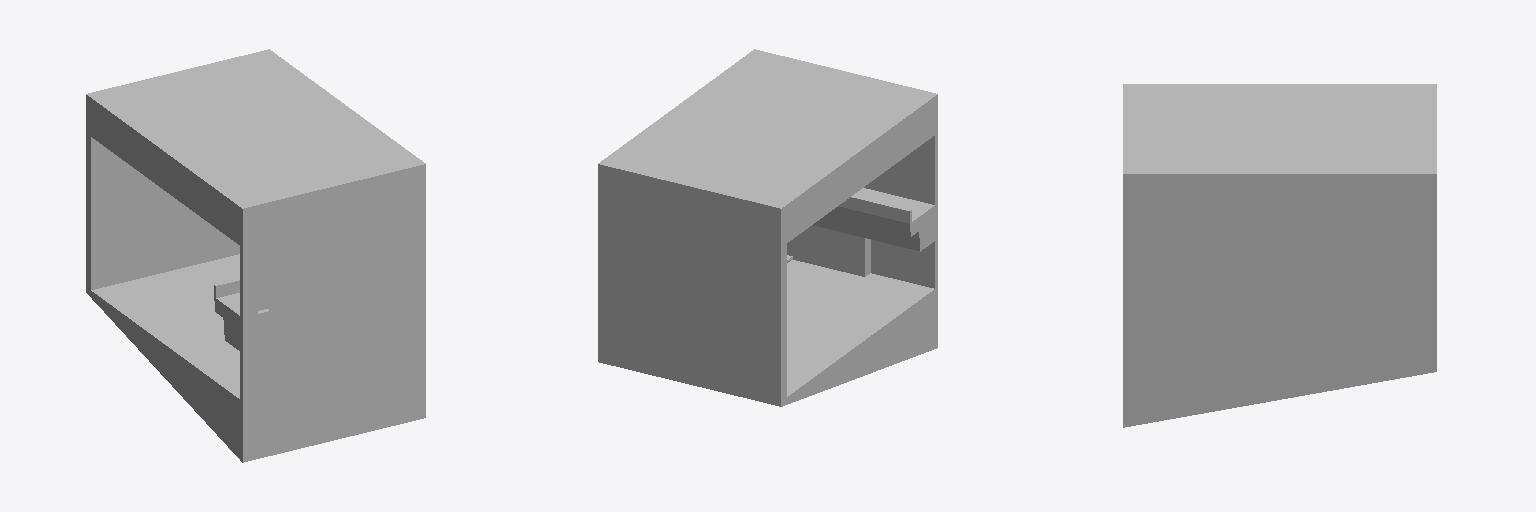
The model's file is engine_room.obj.
3 views of the same model, side by side, from view 1: azimuth 30°, elevation 25°; view 2: azimuth 150°, elevation 25°; view 3: azimuth 270°, elevation 25° (orthographic).
Visible parts, largest first — view 1: pCube69; view 2: pCube69; view 3: pCube69.
Part boxes in pixels (x1,y1,x2,y2): pCube69: (86,49,425,462); pCube69: (598,49,937,406); pCube69: (1123,84,1436,427).
Size of the model in its own units: 115 by 152 by 170.